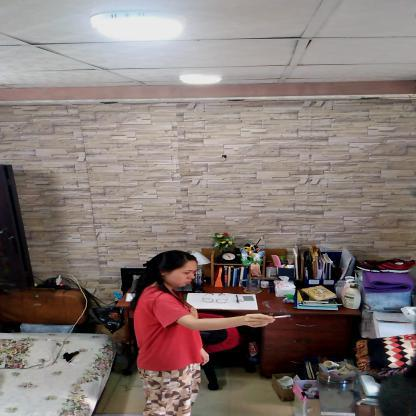cigarette: (272, 315, 290, 319)
person: (129, 250, 213, 415)
smoke: (262, 300, 269, 308)
